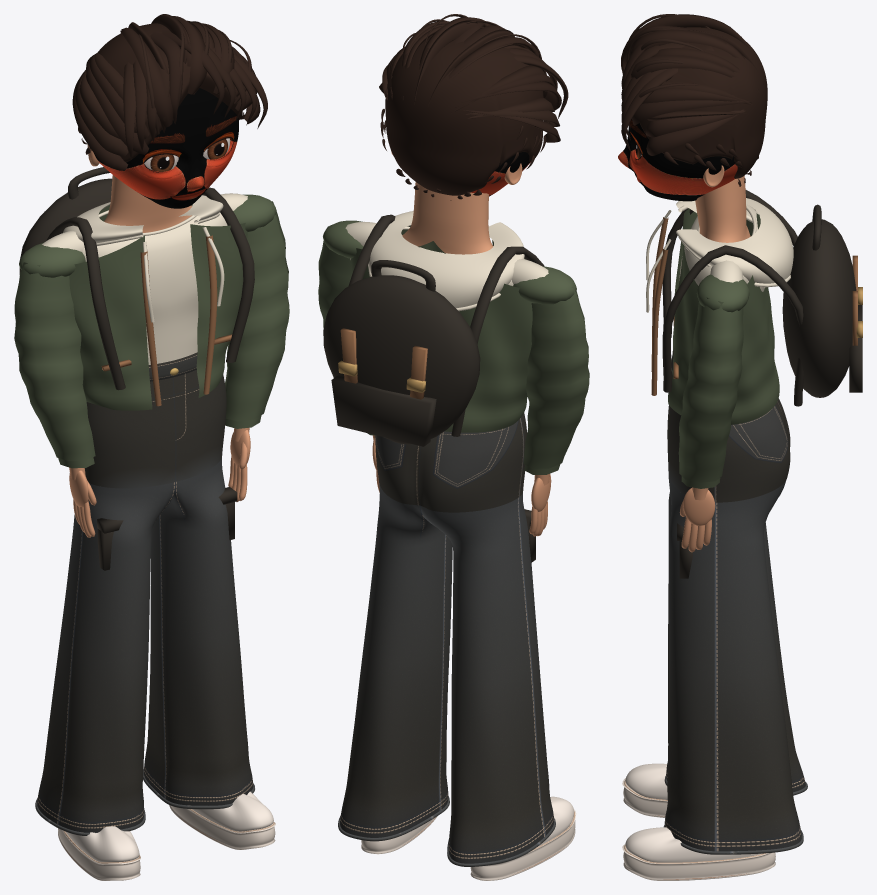
Rendered from noah-before.glb.
3 views of the same model, side by side, from view 1: azimuth 30°, elevation 25°; view 2: azimuth 150°, elevation 25°; view 3: azimuth 270°, elevation 25° (orthographic).
Visible parts, largest first — view 1: Noah, Noah garment details (×6), Maya hair, Maya face; view 2: Noah, Noah garment details (×6), Maya hair, Maya face; view 3: Noah, Noah garment details (×5), Maya hair, Maya face.
Boxes of the visible parts, bbox=[...] form: Noah: bbox=[35, 134, 275, 880]; Noah garment details (×6): bbox=[14, 167, 289, 570]; Maya hair: bbox=[72, 14, 267, 170]; Maya face: bbox=[90, 88, 238, 208]; Noah: bbox=[338, 150, 576, 880]; Noah garment details (×6): bbox=[318, 211, 589, 562]; Maya hair: bbox=[379, 14, 568, 200]; Maya face: bbox=[470, 152, 530, 196]; Noah: bbox=[622, 131, 807, 880]; Noah garment details (×5): bbox=[646, 190, 862, 578]; Maya hair: bbox=[621, 14, 767, 186]; Maya face: bbox=[618, 119, 737, 201].
Bounding box in the file's own units: 0.5882 × 1.68 × 0.4575.
54 materials, 16 textured.
